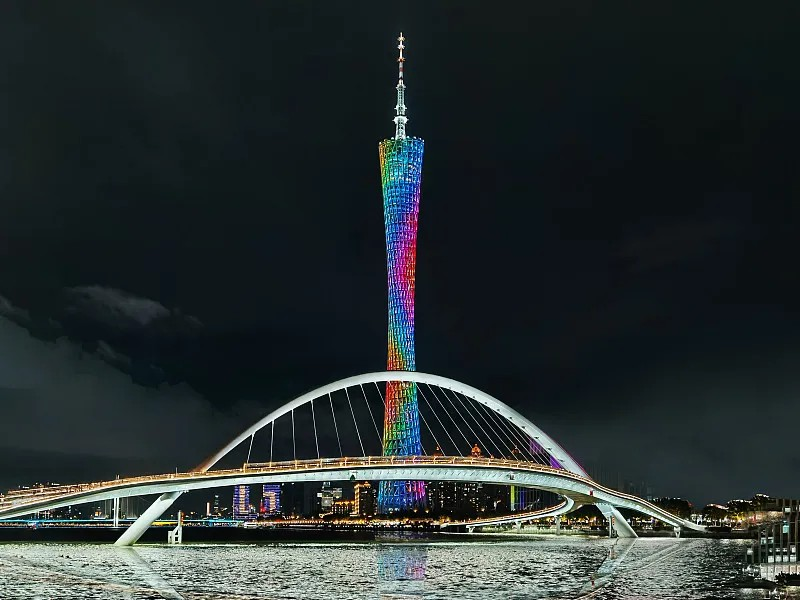Canton: (378, 29, 428, 514)
